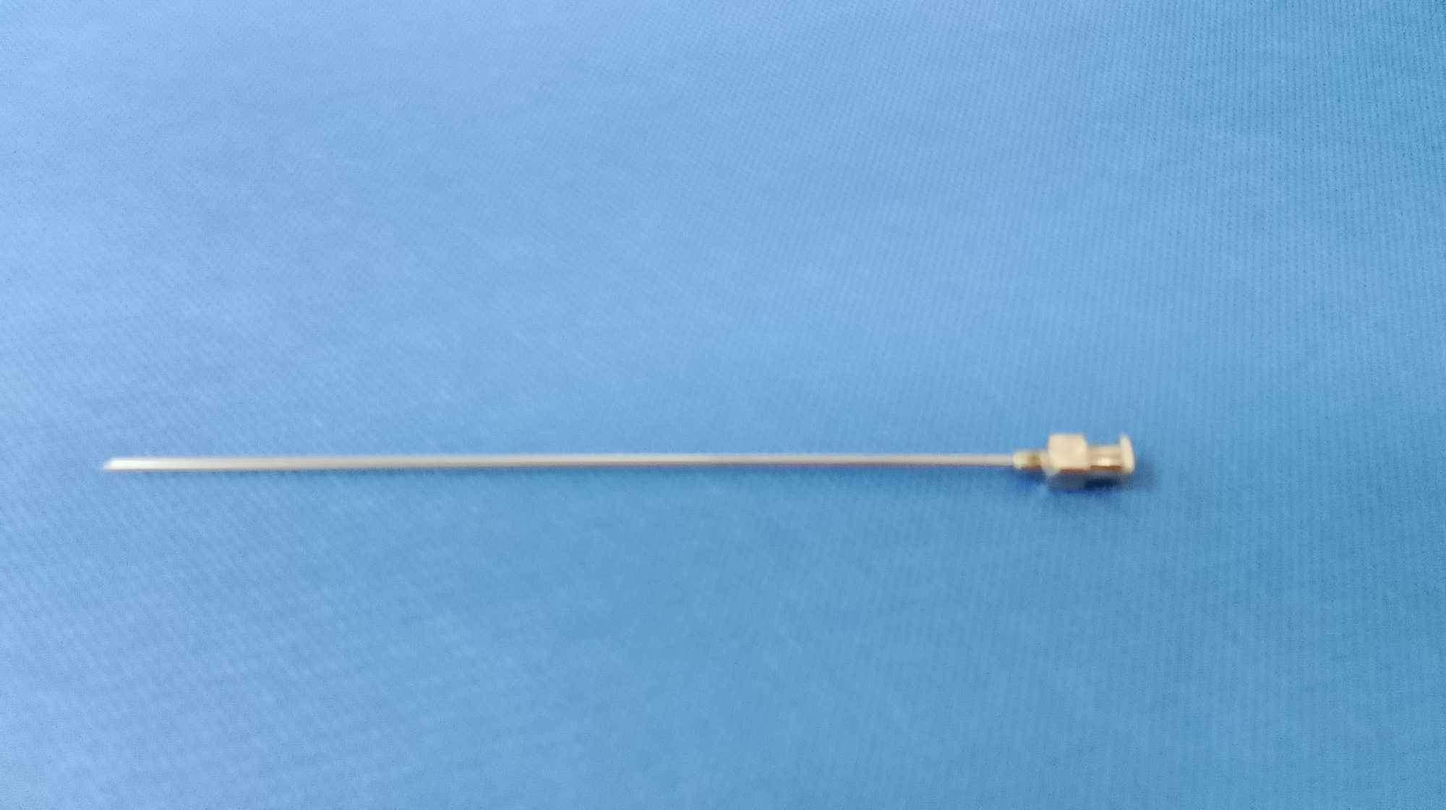Pathological: (6, 4, 1439, 804)
Sharps: (101, 431, 1137, 486)
